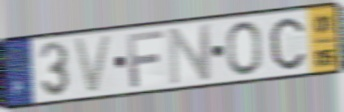3: (37, 40, 71, 100)
C: (268, 16, 308, 72)
F: (126, 28, 166, 90)
N: (167, 21, 214, 88)
O: (225, 19, 264, 77)
V: (71, 32, 116, 97)
